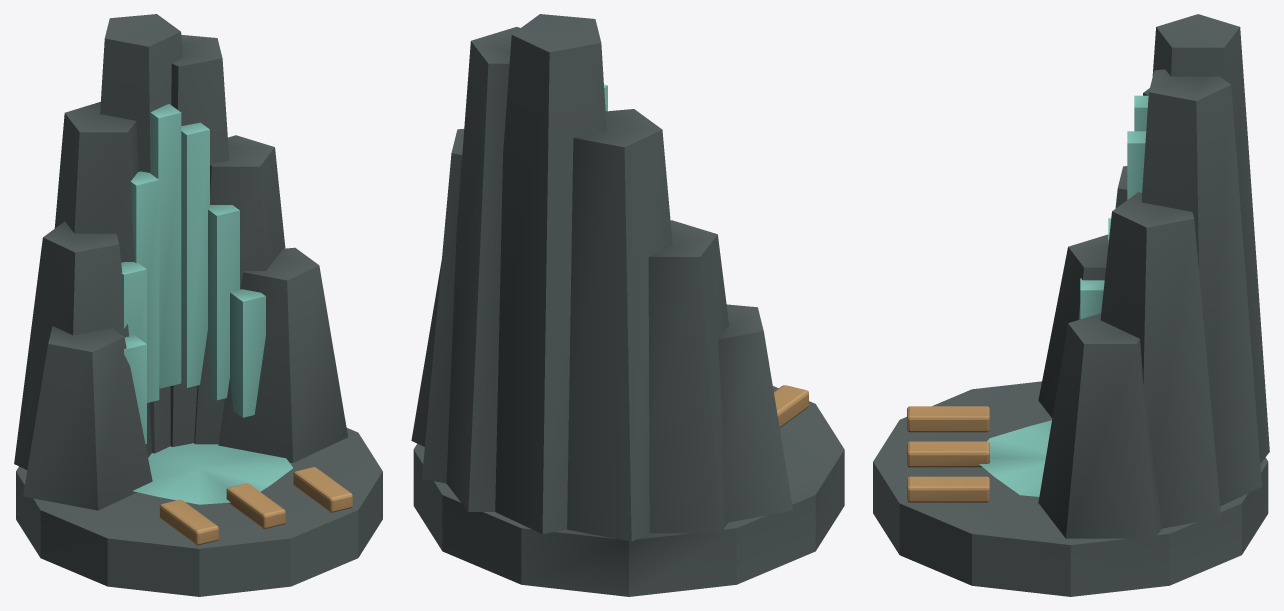
The model's file is listening-stone-v1.glb.
3 renders of one model, left to right at view 1: azimuth 30°, elevation 25°; view 2: azimuth 150°, elevation 25°; view 3: azimuth 270°, elevation 25°, orthographic. The views are drawn at different scales.
Parts seen in each view (by area): view 1: GB_LISTENING_BASALT, GB_LISTENING_GLASS, GB_LISTENING_COPPER; view 2: GB_LISTENING_BASALT, GB_LISTENING_COPPER; view 3: GB_LISTENING_BASALT, GB_LISTENING_COPPER, GB_LISTENING_GLASS.
Boxes of the visible parts, bbox=[...] form: GB_LISTENING_BASALT: bbox=[14, 14, 382, 596]; GB_LISTENING_GLASS: bbox=[121, 104, 292, 504]; GB_LISTENING_COPPER: bbox=[159, 467, 352, 545]; GB_LISTENING_BASALT: bbox=[411, 14, 844, 596]; GB_LISTENING_COPPER: bbox=[774, 385, 808, 427]; GB_LISTENING_BASALT: bbox=[873, 14, 1269, 596]; GB_LISTENING_COPPER: bbox=[907, 406, 989, 502]; GB_LISTENING_GLASS: bbox=[979, 95, 1148, 496].
Bounding box in the file's own units: 1.52 × 2.04 × 1.53.
